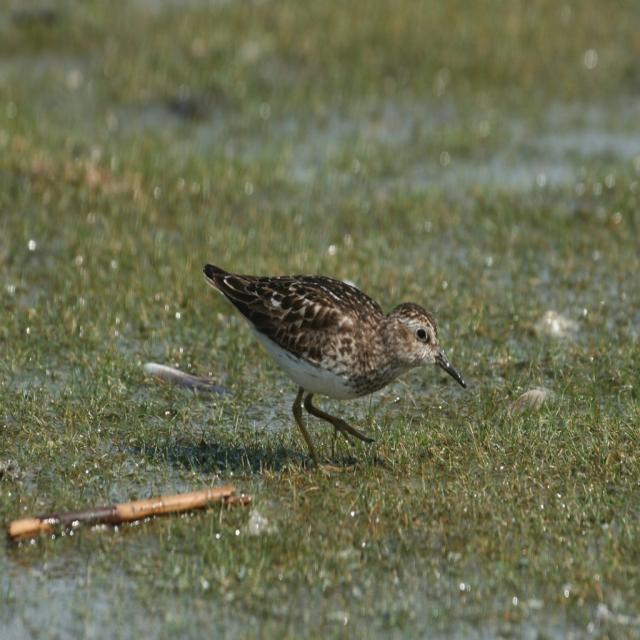bird: (186, 262, 468, 477)
